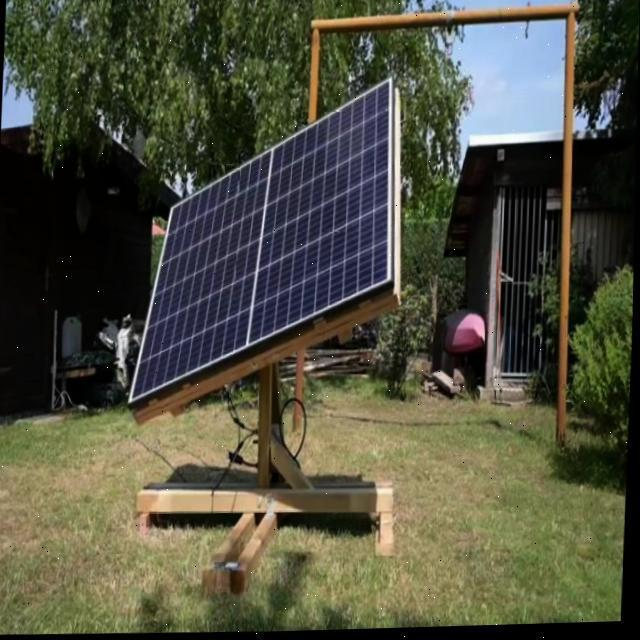Normal Solar Panel: (131, 79, 398, 408)
